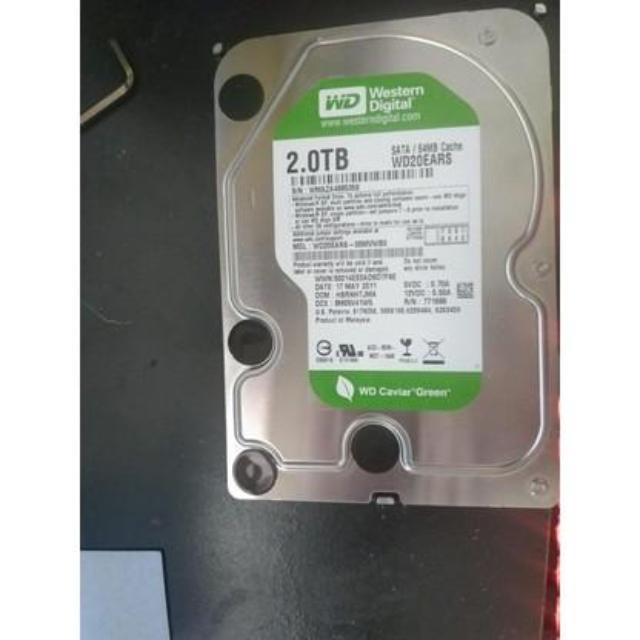DISK: (225, 24, 553, 487)
